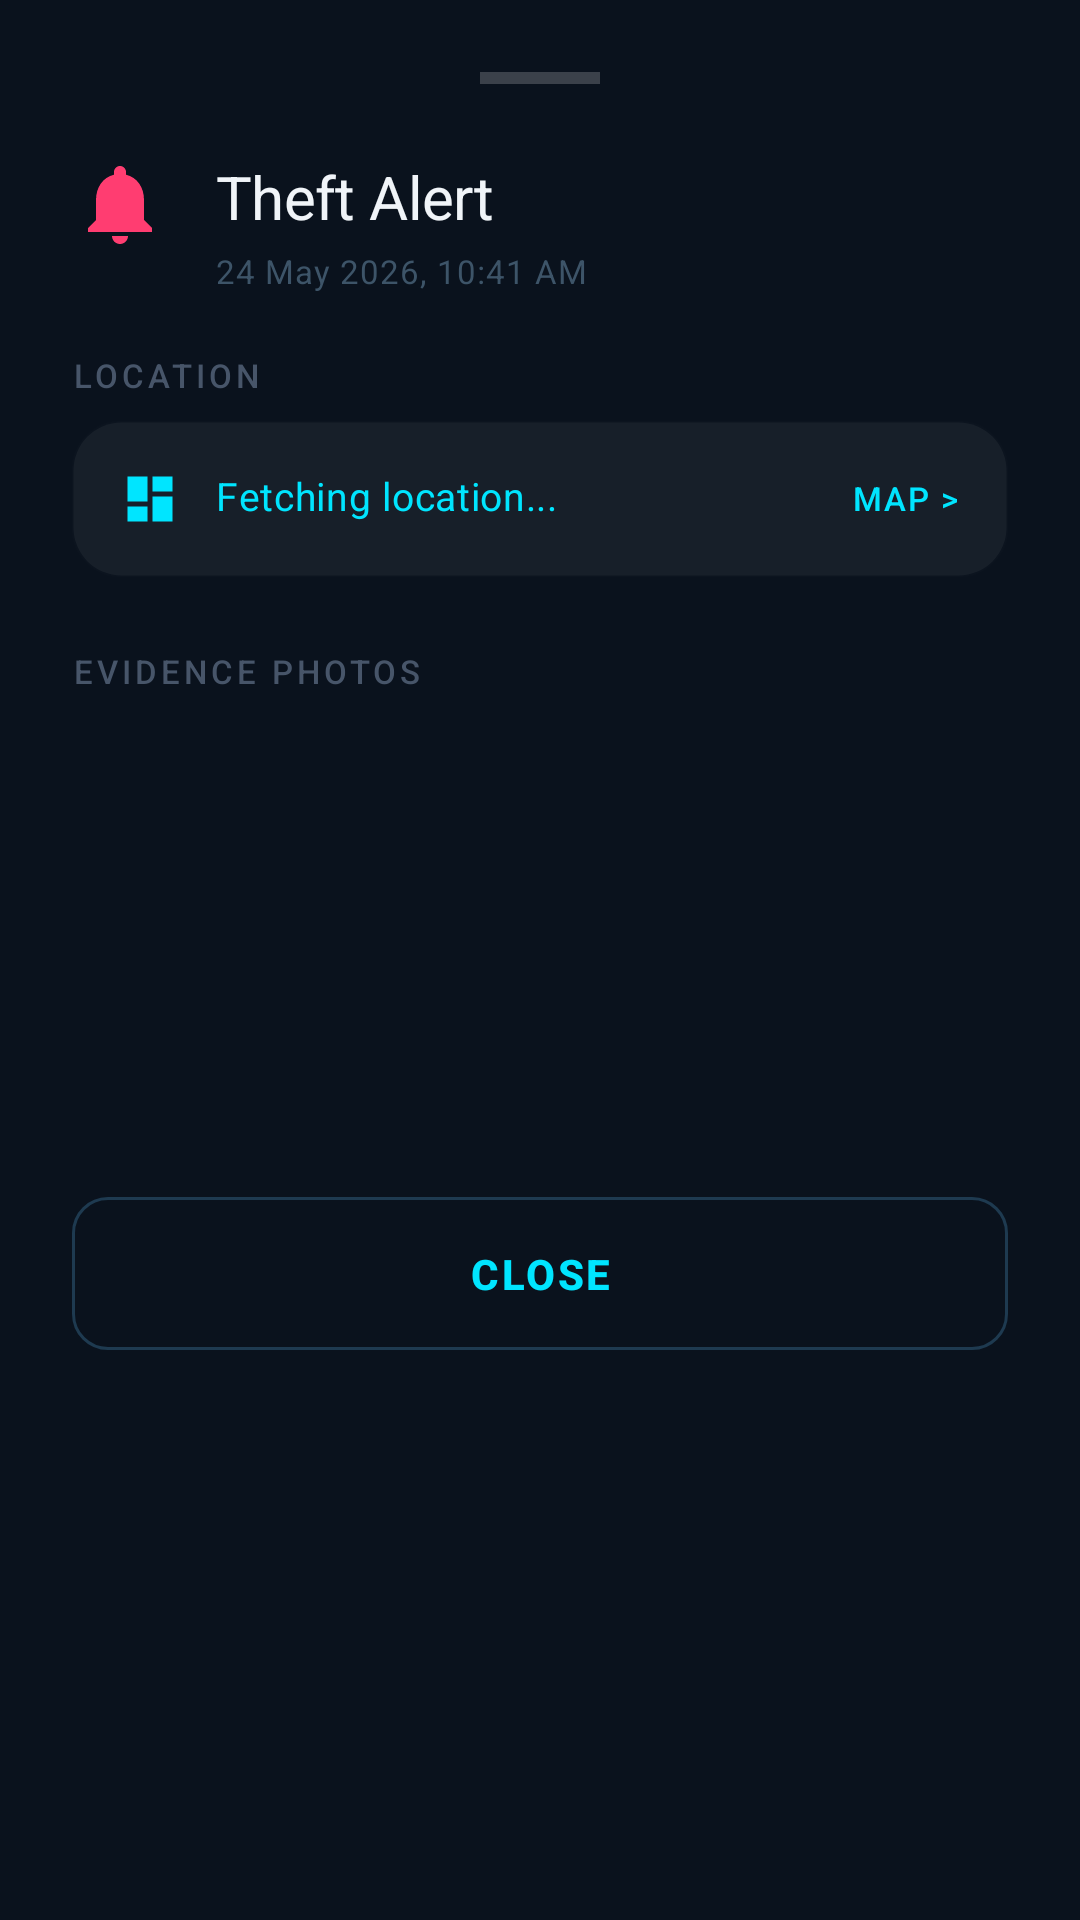

Point at icon controls on the screen. Image size 1080px×1920px, points as (x,y).
alerts: (120,205)
dashboard: (150,499)
